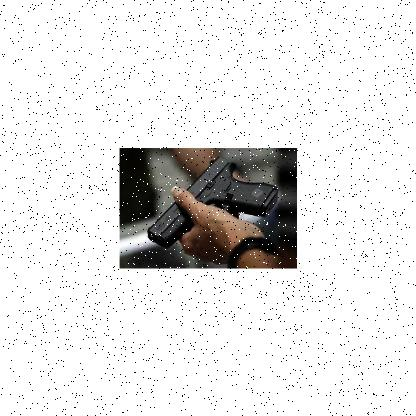gun: (144, 155, 280, 247)
